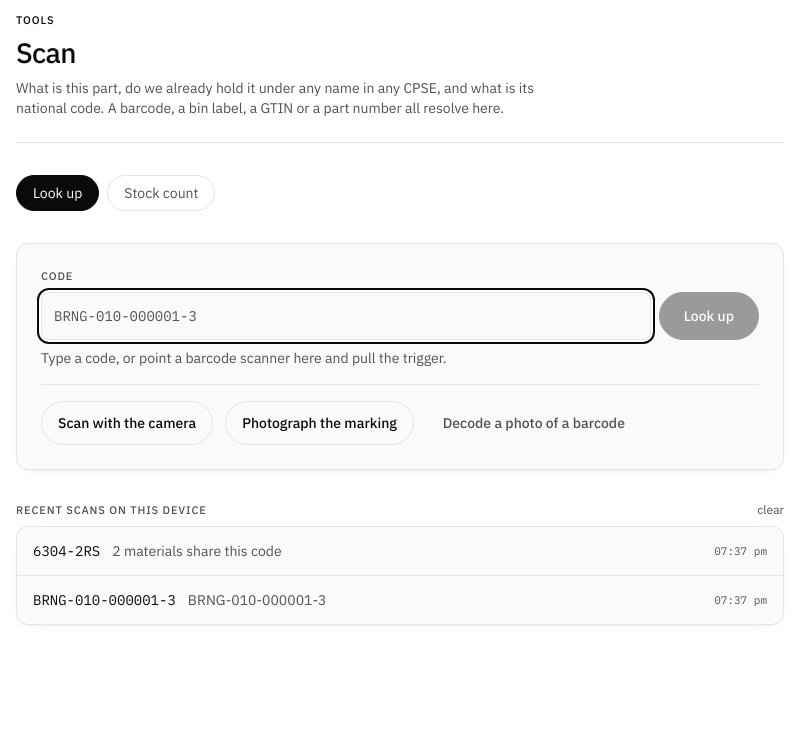
Test: Scan › renders the note and the Smart-Create link when nothing is found
Type "zzz-nothing" into the field labelled "Code" at (346, 316), box [41,292,651,340]
Then press Enter
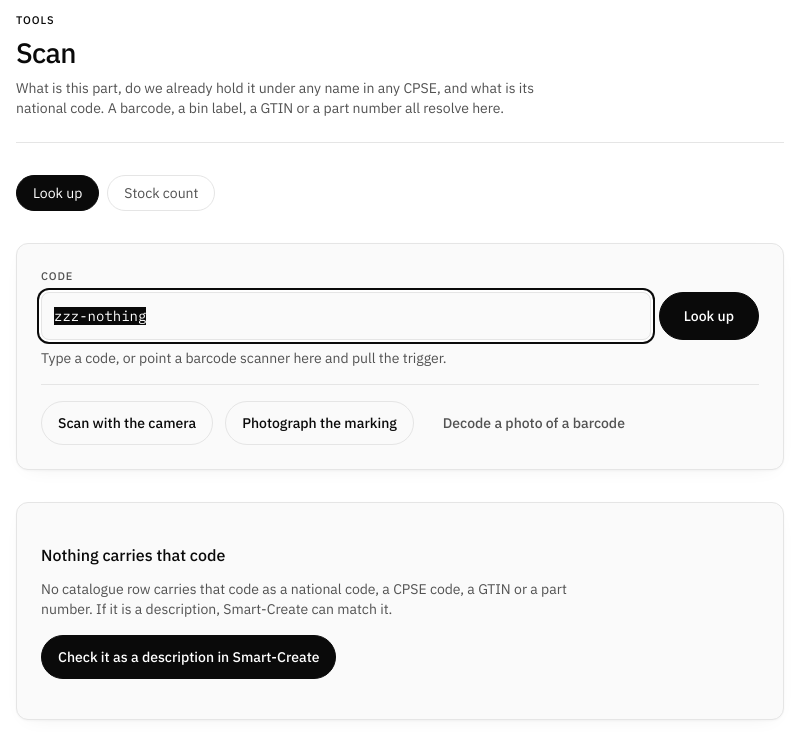
Result: the text "No catalogue row carries that code as a national code, a CPSE code, a GTIN or a part number. If it is a description, Sma" is shown at [41,580,567,618]
